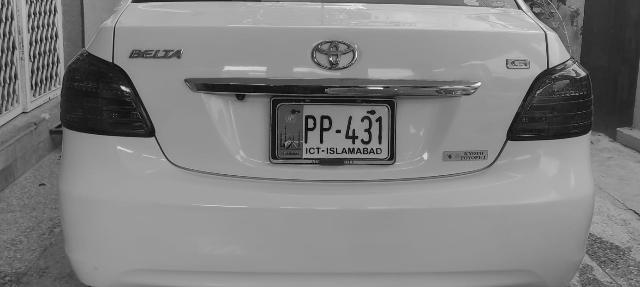Number: (302, 113, 386, 150)
